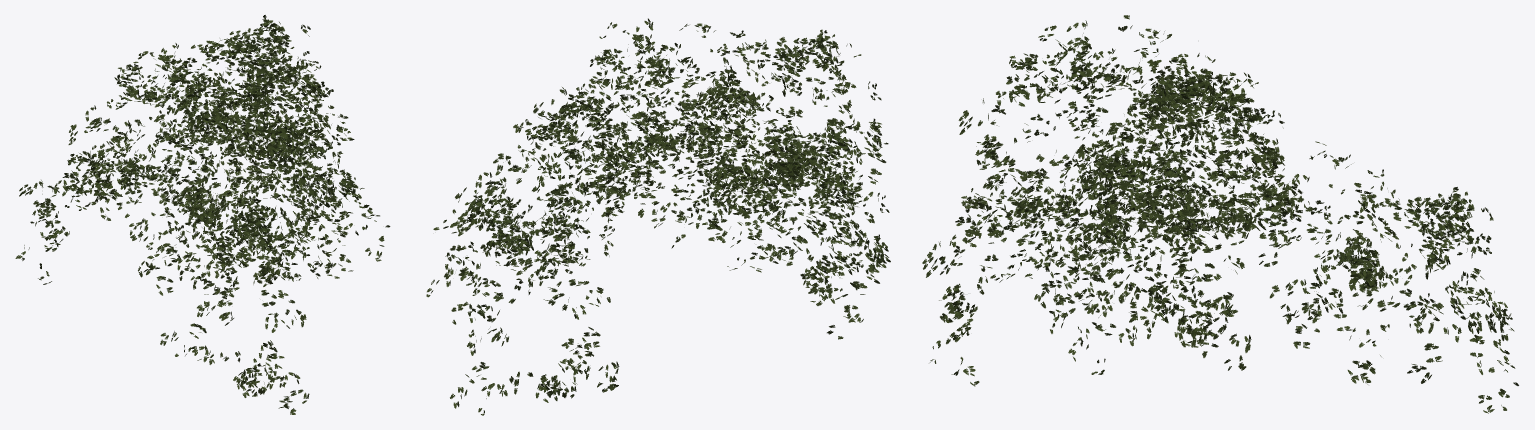
The model's file is MESH_AS11_A_Chinaberry_LOD2.fbx.
3 renders of one model, left to right at view 1: azimuth 30°, elevation 25°; view 2: azimuth 150°, elevation 25°; view 3: azimuth 270°, elevation 25°, orthographic. The views are drawn at different scales.
Visible parts, largest first — view 1: MI_LOD2_001; view 2: MI_LOD2_001; view 3: MI_LOD2_001.
Part boxes in pixels (x1,y1,x2,y2): MI_LOD2_001: (15, 15, 390, 414); MI_LOD2_001: (426, 18, 890, 415); MI_LOD2_001: (922, 15, 1518, 413).
Size of what is drawn, in the model's own units: 942 by 785 by 1185.
